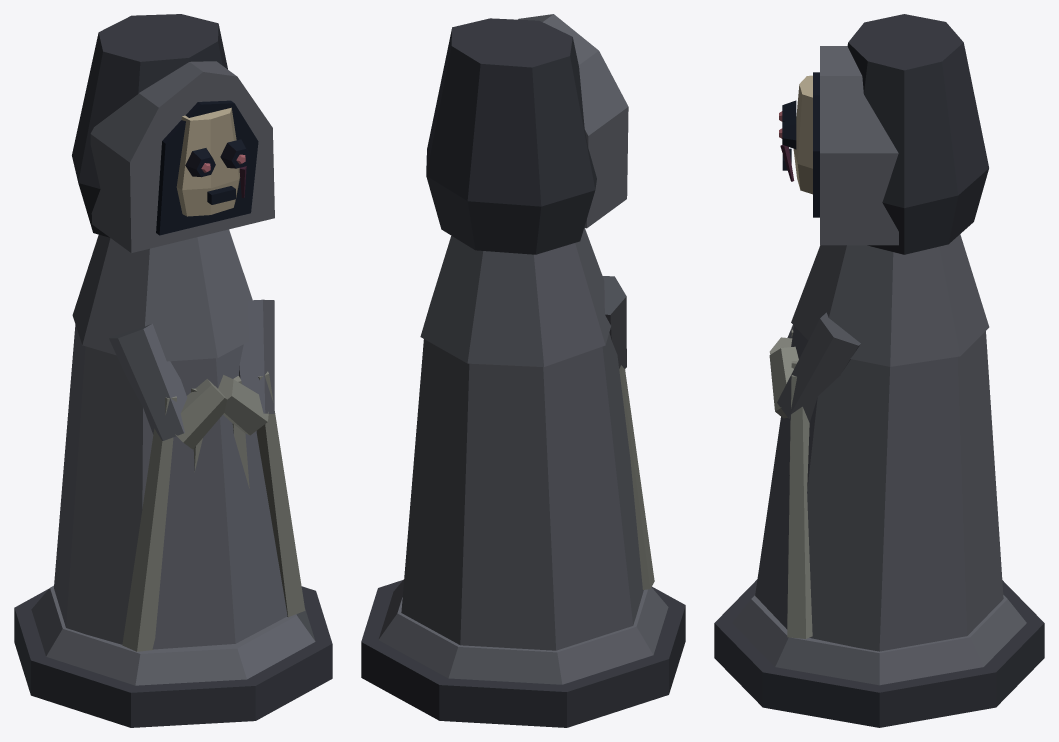
File: mourner-unveiled.glb
The picture shows the model from 3 angles, left to right: view 1: azimuth 30°, elevation 25°; view 2: azimuth 150°, elevation 25°; view 3: azimuth 270°, elevation 25°; orthographic projection. The views are drawn at different scales.
Visible parts, largest first — view 1: The stone mourner · unveiled; view 2: The stone mourner · unveiled; view 3: The stone mourner · unveiled.
Part boxes in pixels (bbox=[...]): The stone mourner · unveiled: bbox=[14, 14, 332, 727]; The stone mourner · unveiled: bbox=[361, 14, 685, 727]; The stone mourner · unveiled: bbox=[714, 14, 1044, 727].
Size of the model in its own units: 0.798 by 1.64 by 0.798.
